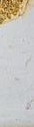Corrosion: (1, 1, 29, 26)
